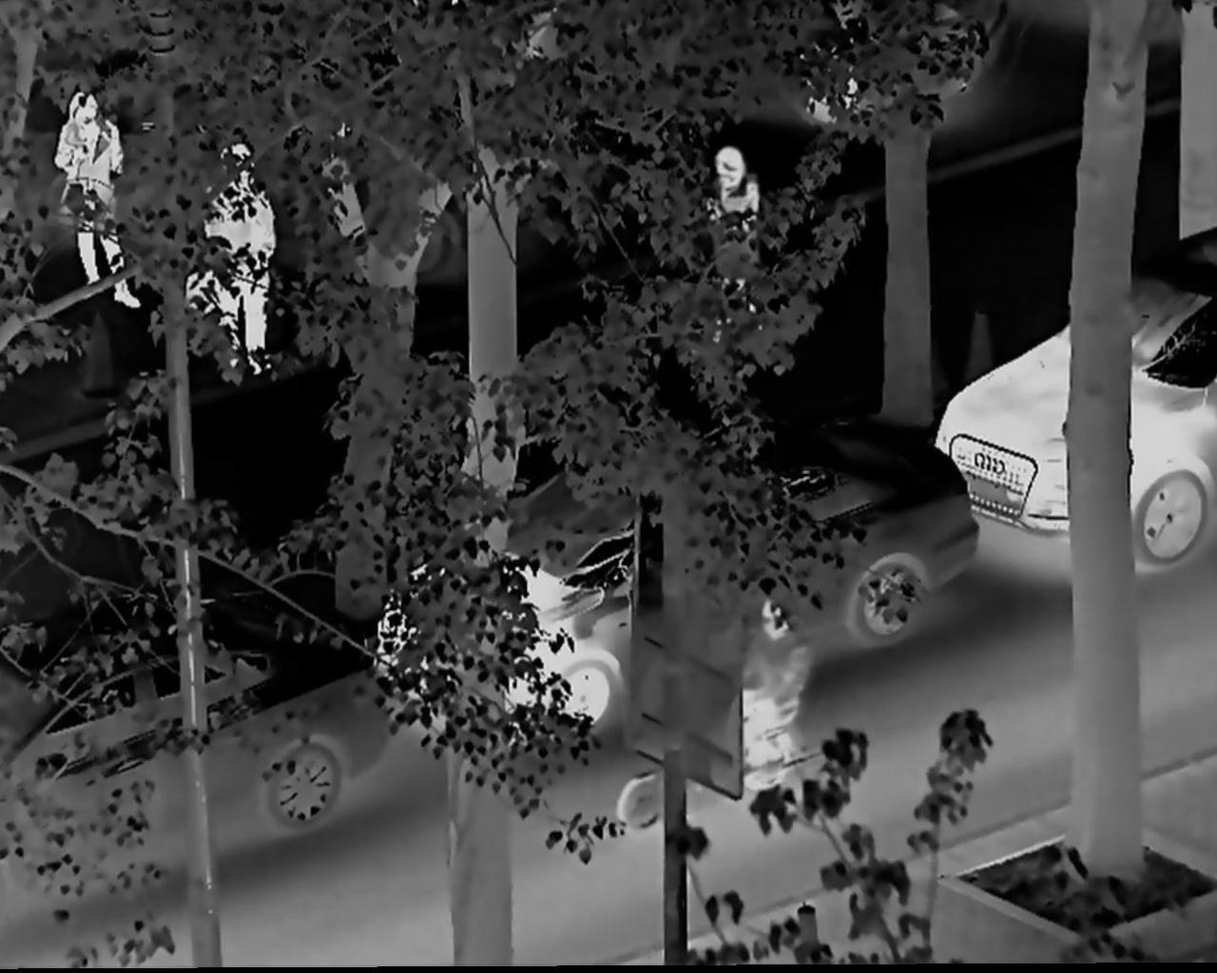person: (42, 85, 147, 334), (195, 134, 280, 391), (700, 141, 768, 348)
